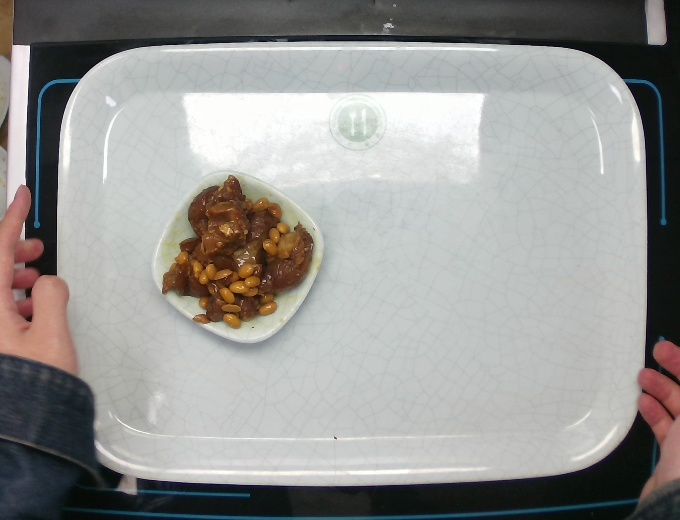JYsf-Si_Fang_Die: (149, 168, 327, 348)
